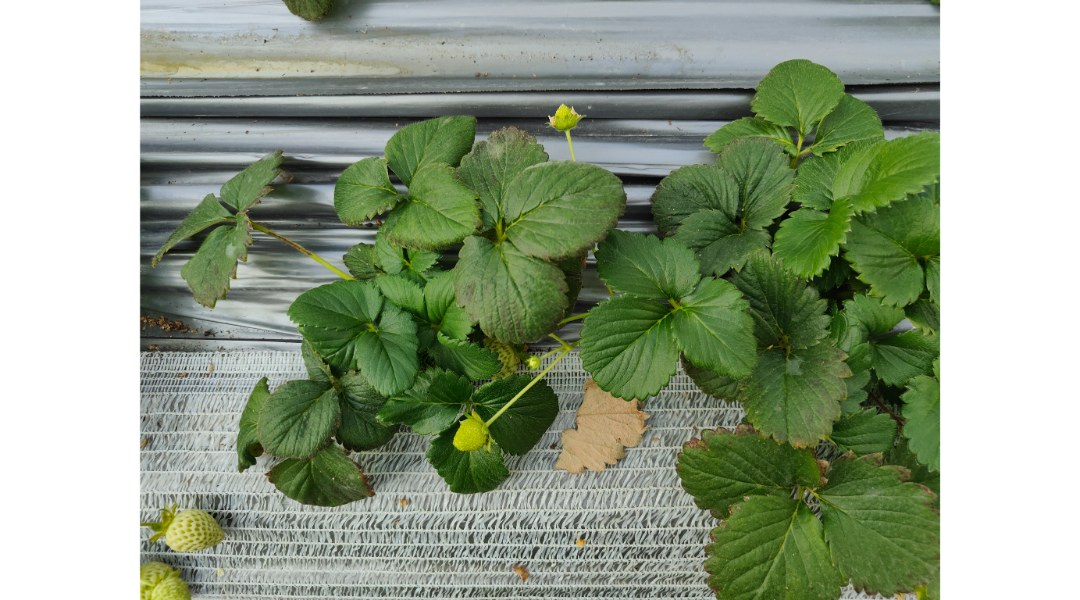berry: (128, 490, 237, 559), (135, 556, 203, 600), (449, 409, 492, 457), (542, 102, 591, 139)
strain: (259, 223, 343, 280), (505, 358, 564, 419)
